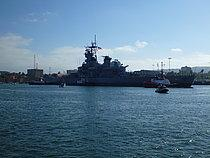MIL_Ship: (41, 43, 197, 88)
